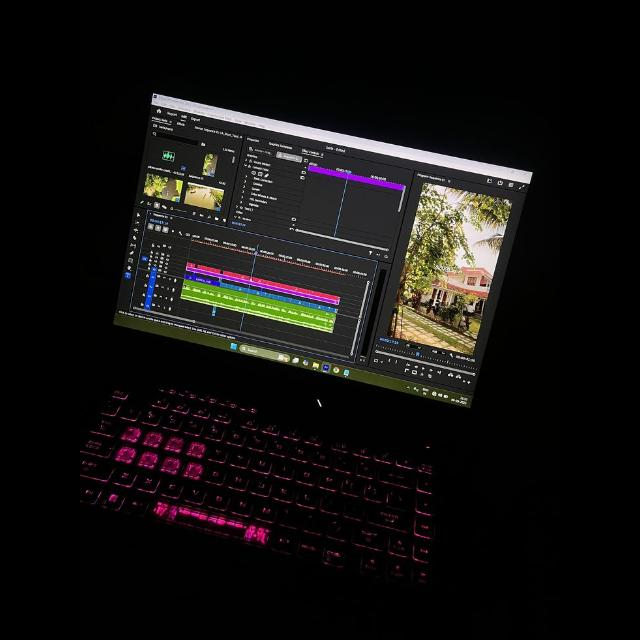laptop: (80, 90, 560, 640)
